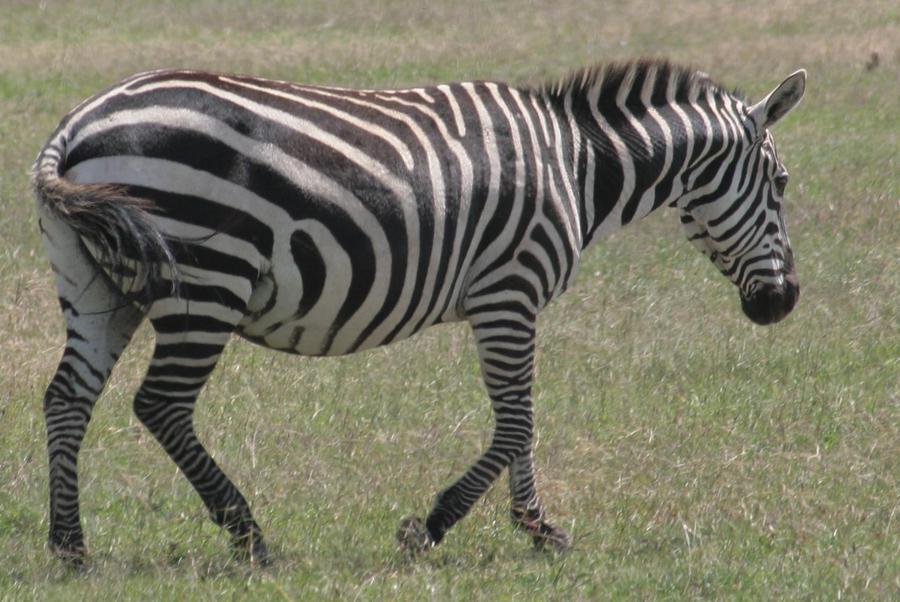zebra_plains: (112, 46, 596, 387)
